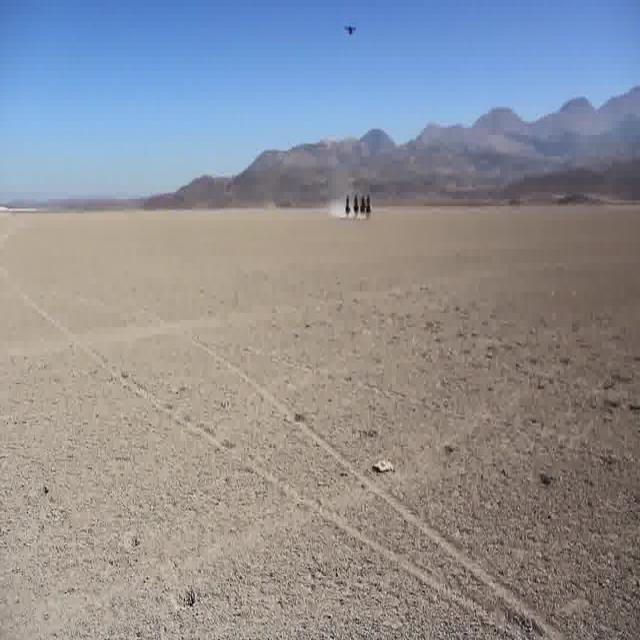drone: (342, 20, 358, 40)
